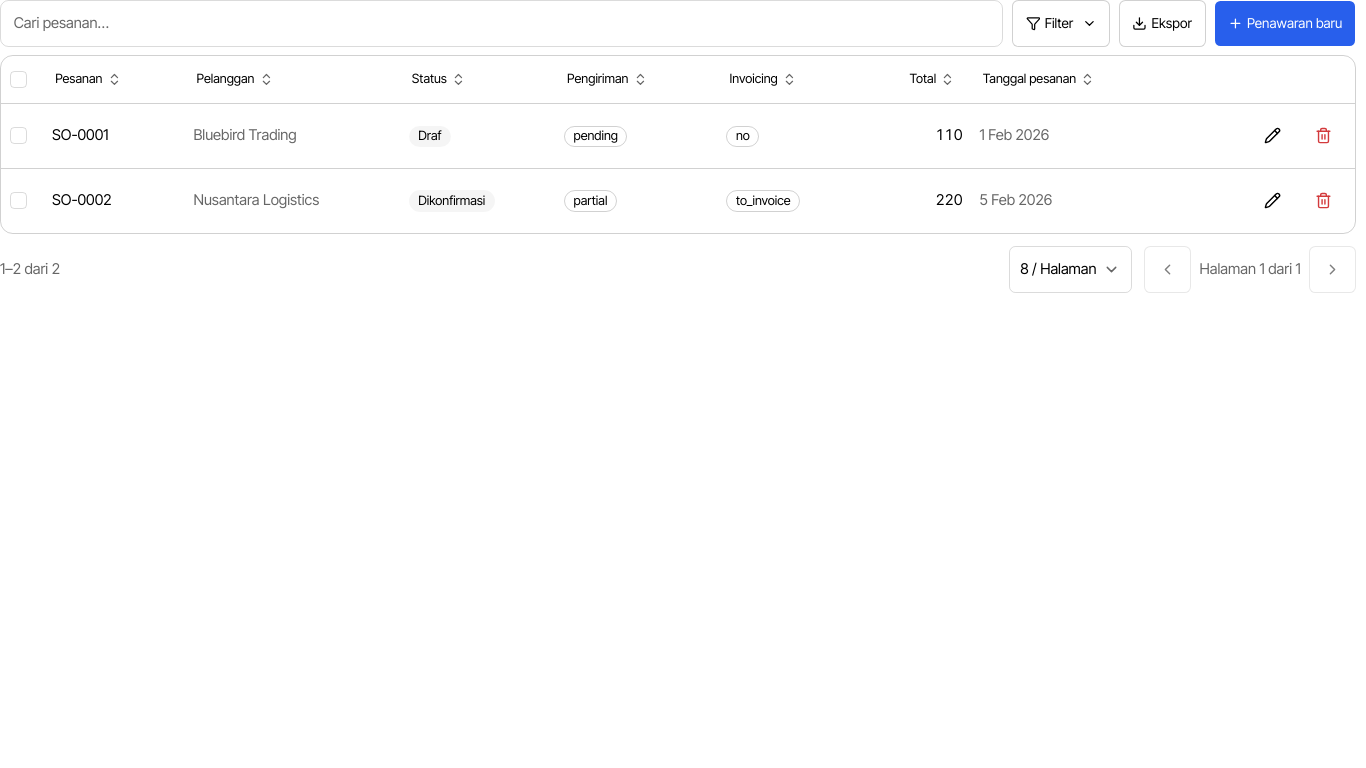
Test: SaleOrdersSection › opens the create dialog from the add button
Expected: the link "SO-0001" is shown, [52,126,109,144]
Click the button "Penawaran baru" at (1285, 23), box [1214,0,1356,47]
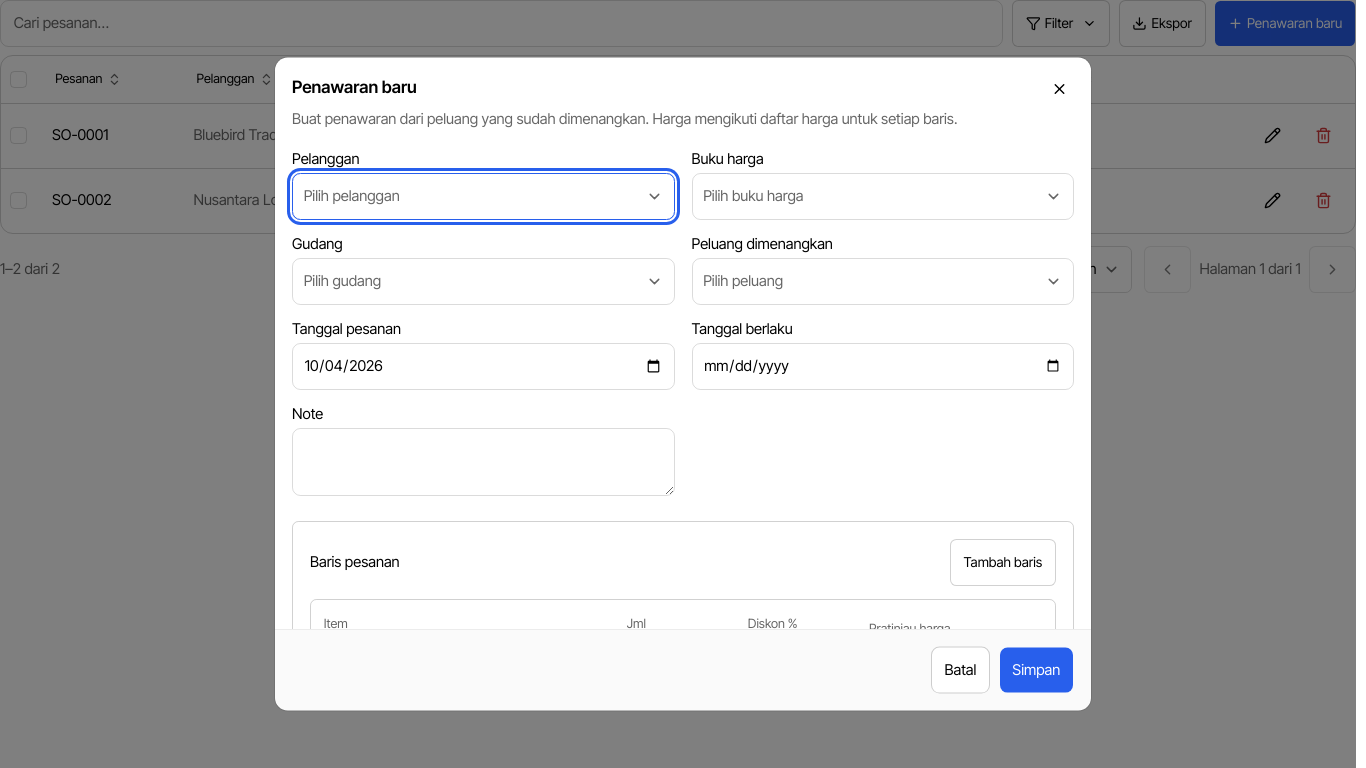
Now the dialog is shown, box [275,58,1091,710]
Now the heading "Baris pesanan" is shown, box [310,552,400,573]
